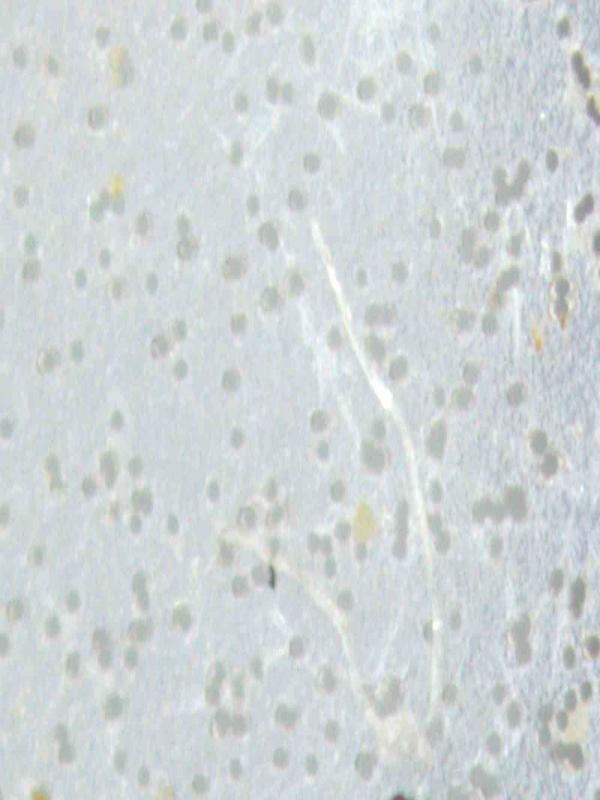microplastic: (191, 187, 458, 747)
